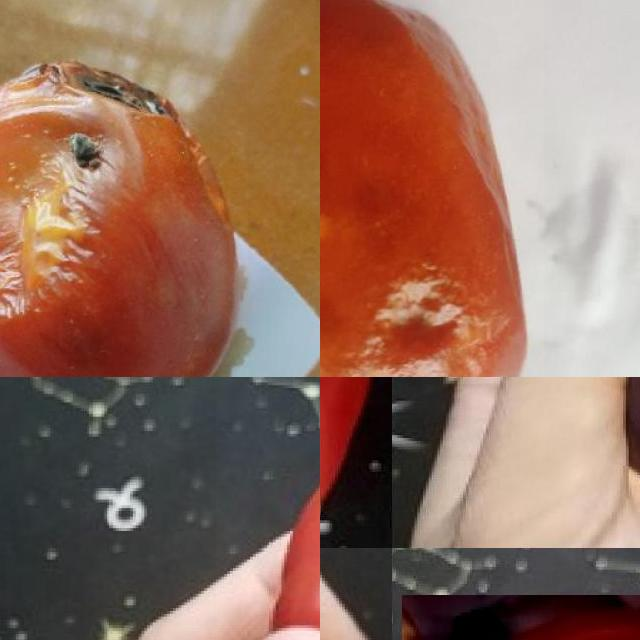1: (320, 0, 543, 377)
Fresh Tomato: (216, 400, 320, 640), (402, 595, 640, 640)
Rotten Tomato: (0, 16, 248, 377)
